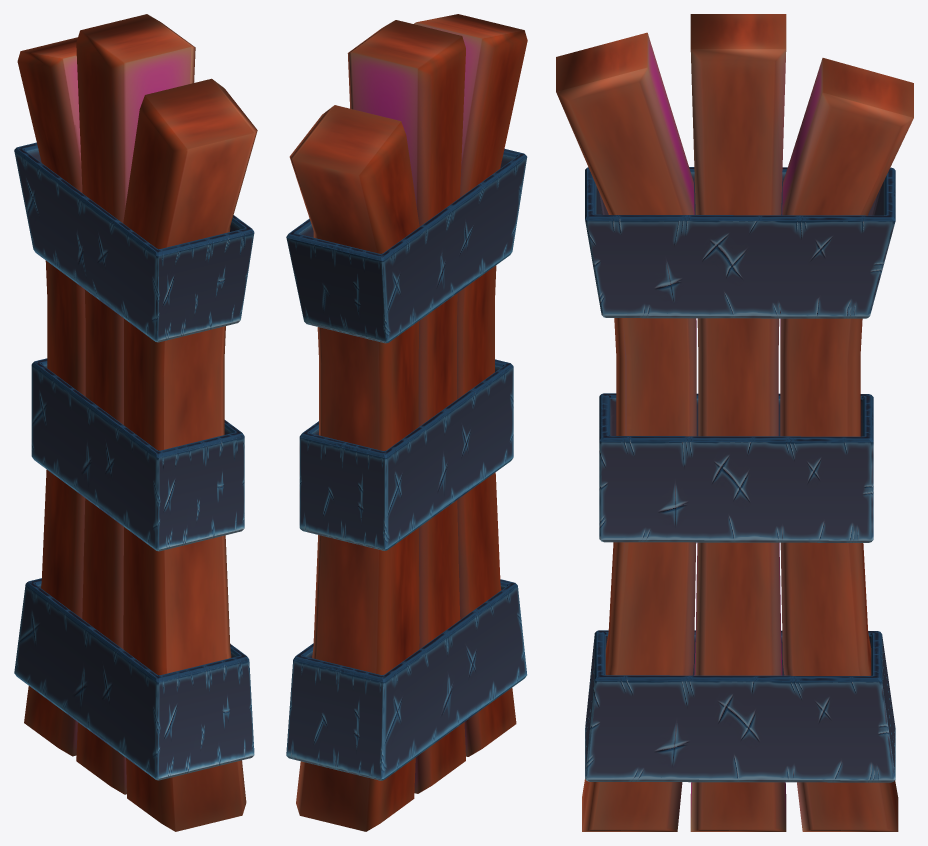
The model's file is regal_3.fbx.
3 views of the same model, side by side, from view 1: azimuth 30°, elevation 25°; view 2: azimuth 150°, elevation 25°; view 3: azimuth 270°, elevation 25° (orthographic). The views are drawn at different scales.
Parts seen in each view (by area): view 1: l_leg.014, Cube.056, Cube.057, Cube.055; view 2: l_leg.014, Cube.056, Cube.057, Cube.055; view 3: l_leg.014, Cube.056, Cube.055, Cube.057.
Boxes of the visible parts, x1,y1,x2,y2 form: l_leg.014: (17,14,257,831); Cube.056: (14,578,254,780); Cube.057: (31,358,244,551); Cube.055: (14,142,254,342); l_leg.014: (289,14,527,831); Cube.056: (286,579,527,780); Cube.057: (299,359,513,550); Cube.055: (286,148,527,343); l_leg.014: (556,14,913,831); Cube.056: (585,630,895,782); Cube.055: (585,167,895,318); Cube.057: (599,393,873,542).
Size of the model in its own units: 135 by 944 by 391.
